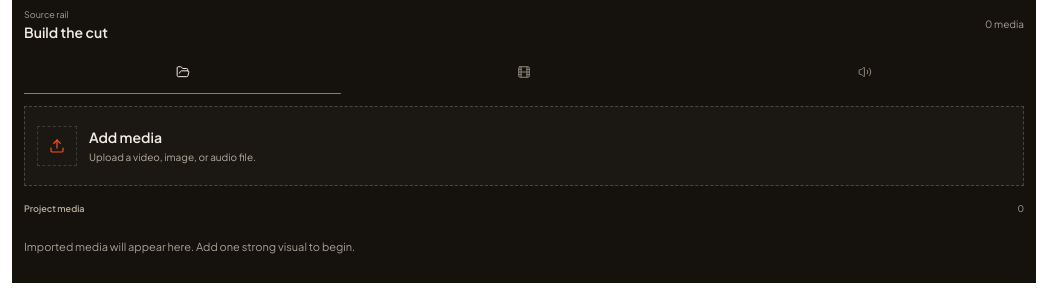
it: UX regressions › does not duplicate text creation in the source rail
Click the tab named "Sound effects": x=865, y=72 [695,50,1036,94]
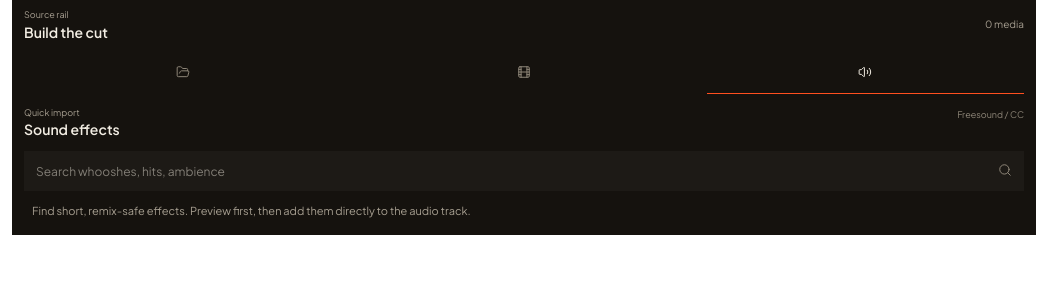
Now the search field named "Search stock sound effects" is shown, box [24,151,1024,191]
